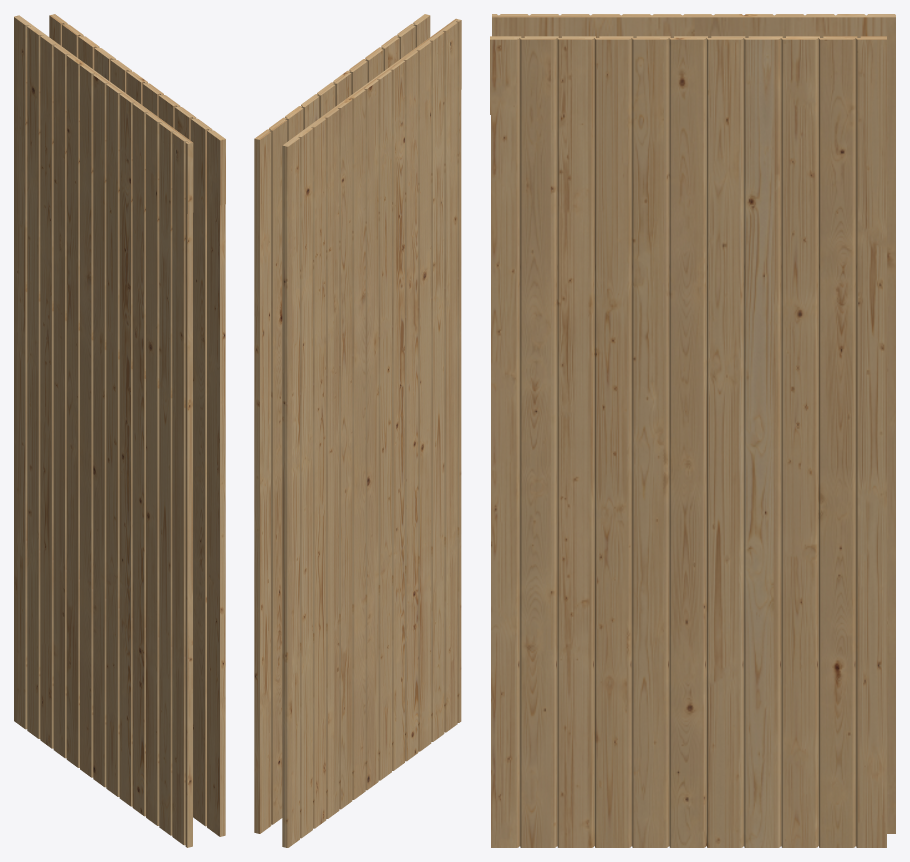
The model's file is Roundy_Sein_A_Osa1.glb.
3 views of the same model, side by side, from view 1: azimuth 30°, elevation 25°; view 2: azimuth 150°, elevation 25°; view 3: azimuth 270°, elevation 25° (orthographic). The views are drawn at different scales.
Visible parts, largest first — view 1: Rectangle844, Rectangle845; view 2: Rectangle844, Rectangle845; view 3: Rectangle845, Rectangle844.
Part boxes in pixels (bbox=[...]): Rectangle844: bbox=[14, 15, 193, 847]; Rectangle845: bbox=[49, 14, 225, 836]; Rectangle844: bbox=[282, 18, 461, 847]; Rectangle845: bbox=[254, 14, 430, 833]; Rectangle845: bbox=[490, 36, 886, 847]; Rectangle844: bbox=[492, 14, 895, 833].
Size of the model in its own units: 0.1186 by 2.12 by 0.9553.
1 material, 1 textured.
